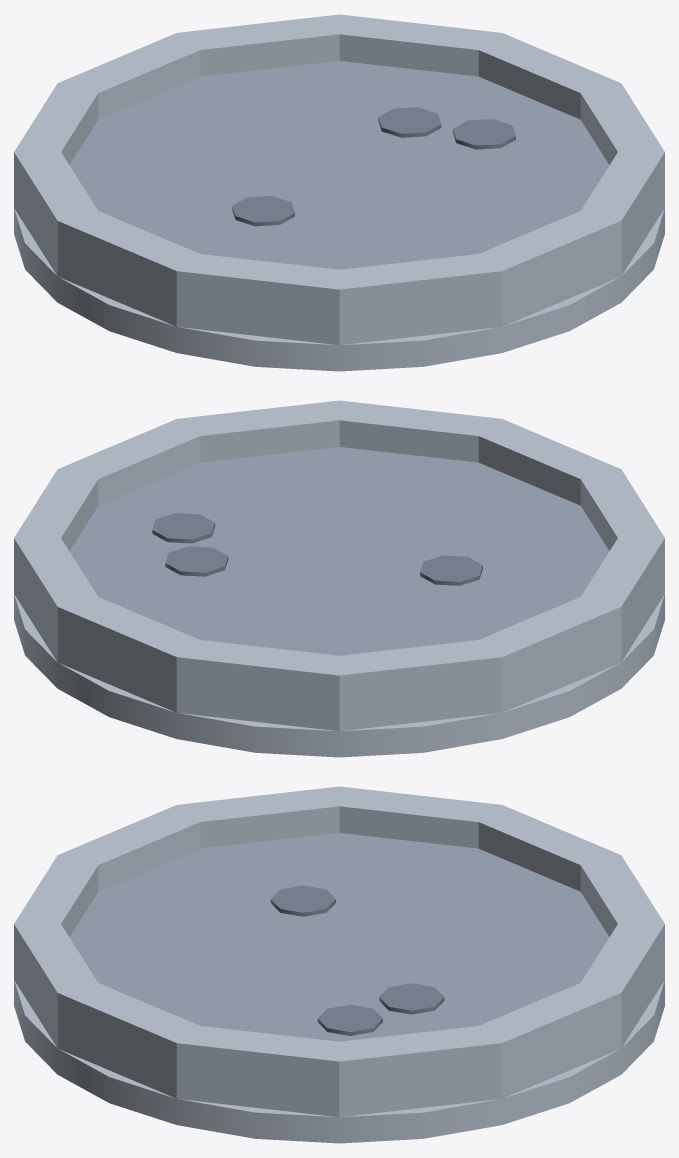
Rendered from garden-pond-round-lite.glb.
3 renders of one model, top to bottom at view 1: azimuth 30°, elevation 25°; view 2: azimuth 150°, elevation 25°; view 3: azimuth 270°, elevation 25°, orthographic.
Visible parts, largest first — view 1: garden-pond-round; view 2: garden-pond-round; view 3: garden-pond-round.
Part boxes in pixels (box(x1,y1,x2,y2)): garden-pond-round: box(14, 14, 664, 371); garden-pond-round: box(14, 400, 664, 757); garden-pond-round: box(14, 786, 664, 1143).
Size of the model in its own units: 1.8 by 0.25 by 1.8.
